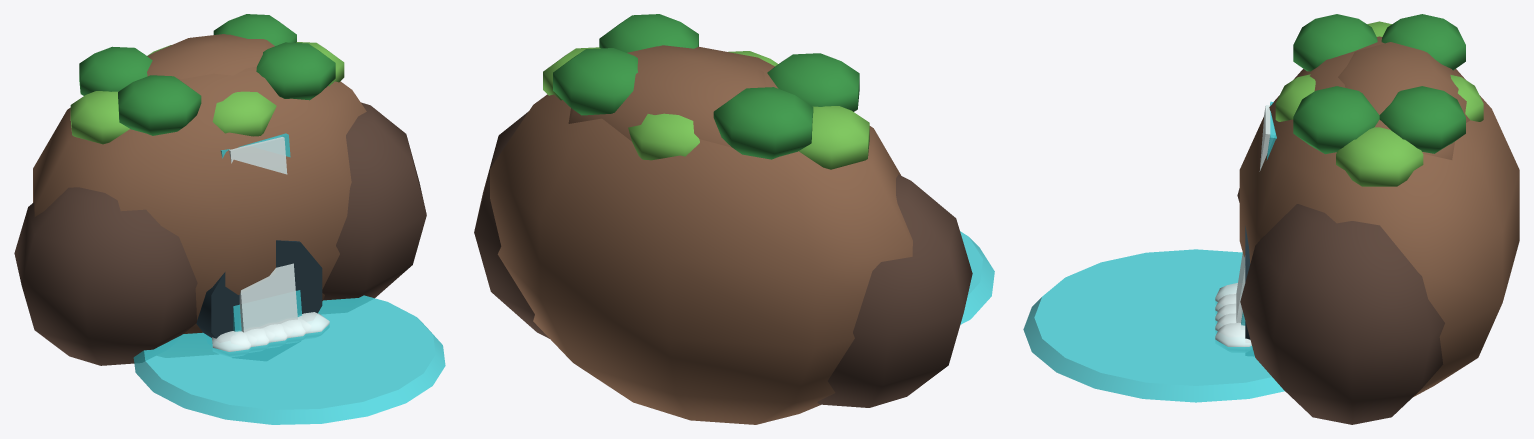
File: waterfall-cave.glb
3 views of the same model, side by side, from view 1: azimuth 30°, elevation 25°; view 2: azimuth 150°, elevation 25°; view 3: azimuth 270°, elevation 25° (orthographic). The views are drawn at different scales.
Visible parts, largest first — view 1: Mesh_cliffRock, Mesh_cliffDark, Mesh_water (×2), Mesh_leaf, Mesh_waterFoam, Mesh_leafLight, Mesh_iron; view 2: Mesh_cliffRock, Mesh_cliffDark, Mesh_leaf, Mesh_leafLight, Mesh_water; view 3: Mesh_cliffRock, Mesh_cliffDark, Mesh_water, Mesh_leaf, Mesh_leafLight, Mesh_waterFoam.
Part boxes in pixels (left/top/right/bottom): Mesh_cliffRock: left=33, top=34, right=366, bottom=333; Mesh_cliffDark: left=14, top=102, right=426, bottom=365; Mesh_water (×2): left=133, top=133, right=445, bottom=424; Mesh_leaf: left=79, top=14, right=335, bottom=135; Mesh_waterFoam: left=212, top=137, right=329, bottom=351; Mesh_leafLight: left=70, top=42, right=344, bottom=144; Mesh_iron: left=196, top=240, right=322, bottom=338; Mesh_cliffRock: left=490, top=45, right=912, bottom=424; Mesh_cliffDark: left=474, top=111, right=972, bottom=407; Mesh_leaf: left=553, top=14, right=859, bottom=159; Mesh_leafLight: left=543, top=47, right=869, bottom=169; Mesh_water: left=960, top=231, right=994, bottom=324; Mesh_cliffRock: left=1239, top=36, right=1519, bottom=396; Mesh_cliffDark: left=1237, top=188, right=1444, bottom=424; Mesh_water: left=1023, top=249, right=1284, bottom=402; Mesh_leaf: left=1293, top=14, right=1465, bottom=154; Mesh_leafLight: left=1275, top=21, right=1483, bottom=186; Mesh_waterFoam: left=1215, top=105, right=1270, bottom=346.
Bounding box in the file's own units: 9.26 × 6.52 × 9.05.
